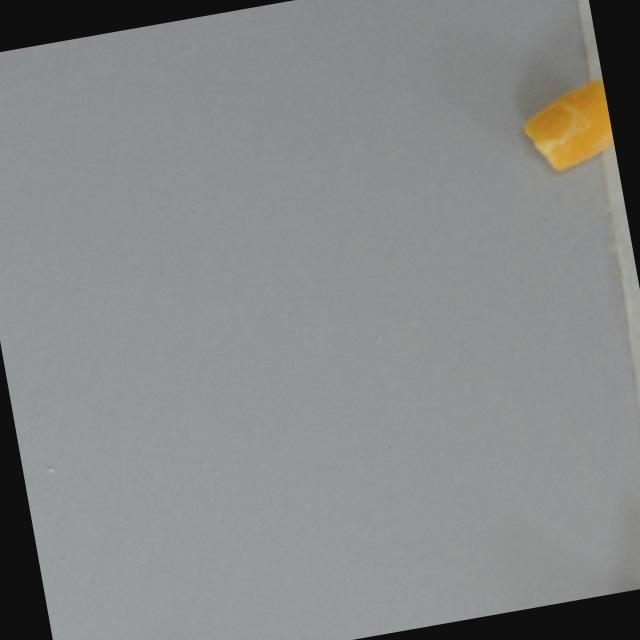pelicula: (511, 80, 617, 180)
